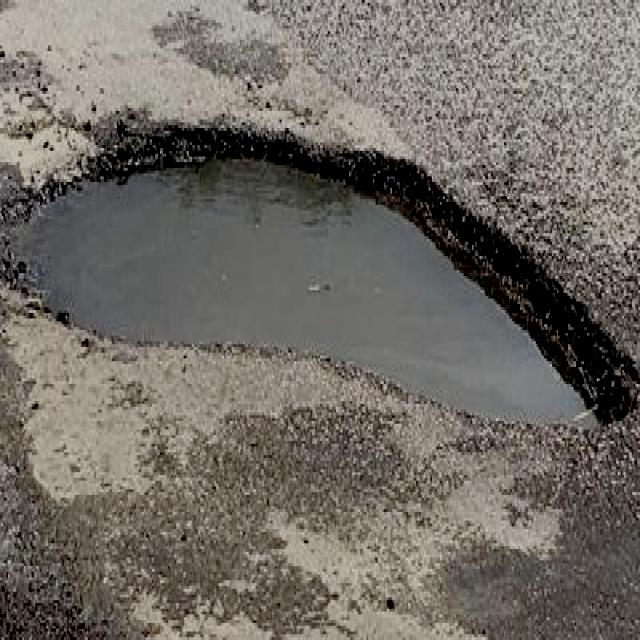Pothole: (0, 82, 640, 560)
